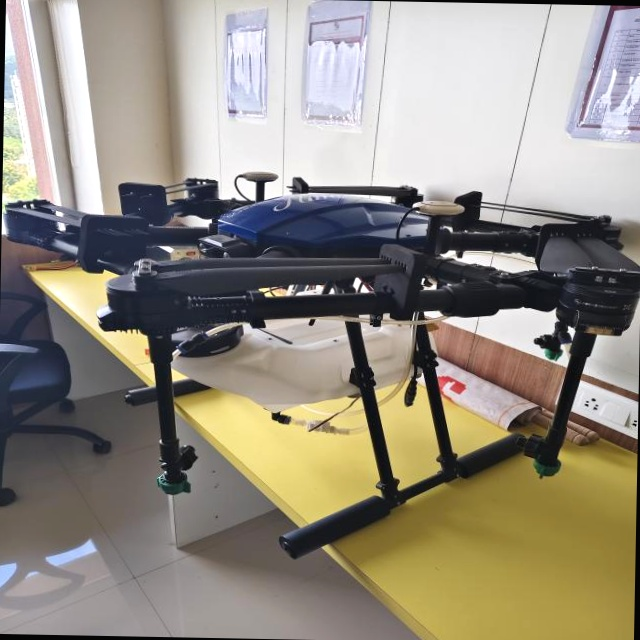agriculturedrone: (0, 157, 640, 572)
